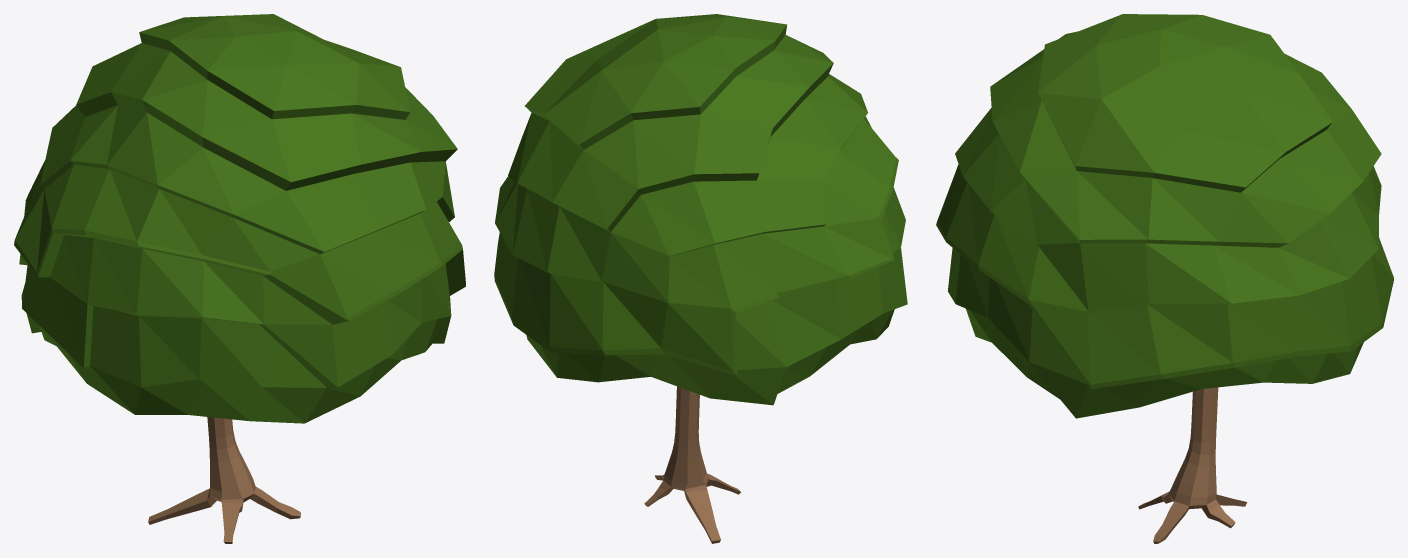
File: tree1.glb
3 renders of one model, left to right at view 1: azimuth 30°, elevation 25°; view 2: azimuth 150°, elevation 25°; view 3: azimuth 270°, elevation 25°, orthographic. The views are drawn at different scales.
Visible parts, largest first — view 1: Canopy, Trunk; view 2: Canopy, Trunk; view 3: Canopy, Trunk.
Part boxes in pixels (x1,y1,x2,y2): Canopy: (14,14,465,423); Trunk: (148,417,300,543); Canopy: (494,14,907,405); Trunk: (644,386,740,543); Canopy: (936,14,1393,418); Trunk: (1138,387,1247,543).
Bounding box in the file's own units: 8.4 × 10.13 × 8.45.
2 materials, 2 textured.
